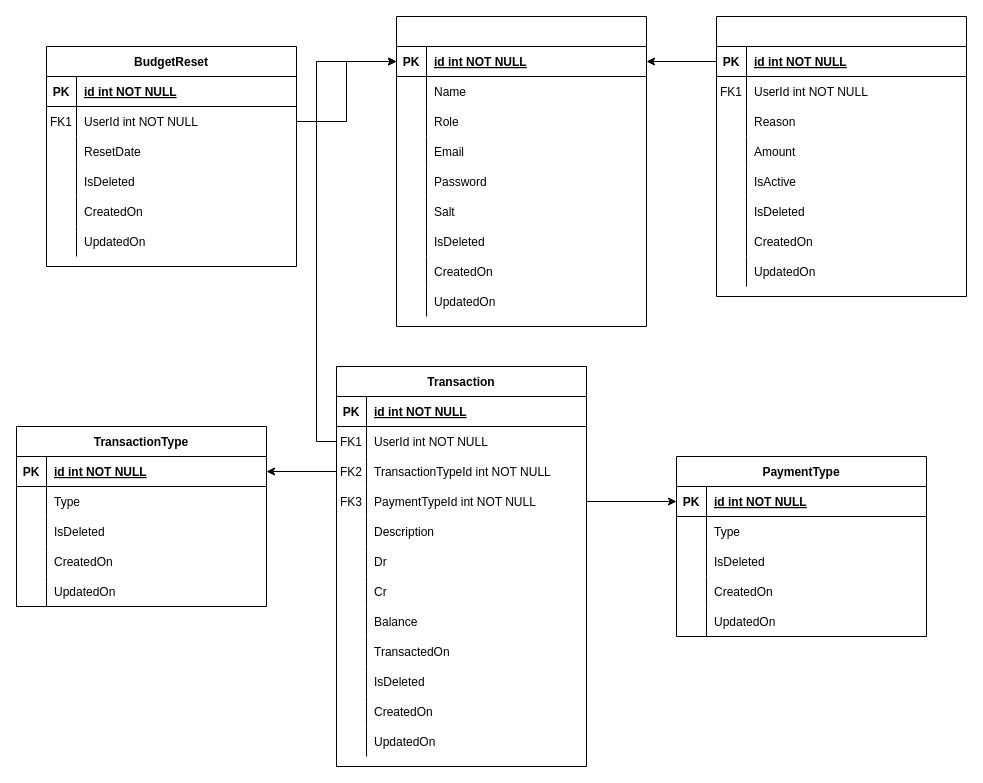
The diagram is 983 pixels wide and 783 high, and some of its shapes have lost their labels. The shapes that lost their labels are listed below. From the top down, each one's box as (x1, y1, x2, y2) in pixels, then its label:
(396, 16, 646, 326): User
(716, 16, 966, 296): Budget
